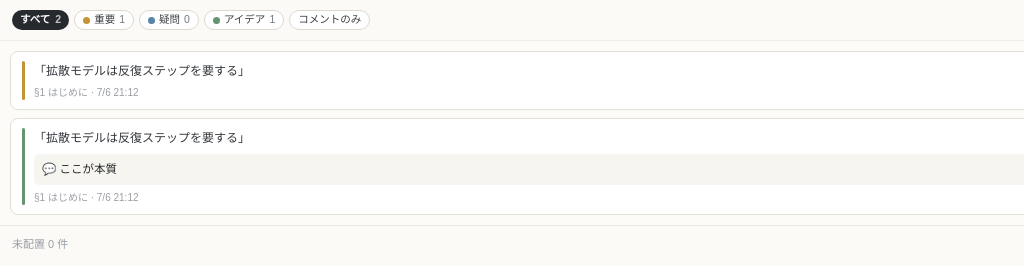
it: AnnotationListPanel (VT-VIEW-08) › コメントのみ filter shows only annotations with a comment
Click the button "コメントのみ" at (330, 20), box top-left (289, 10), bottom-right (370, 30)
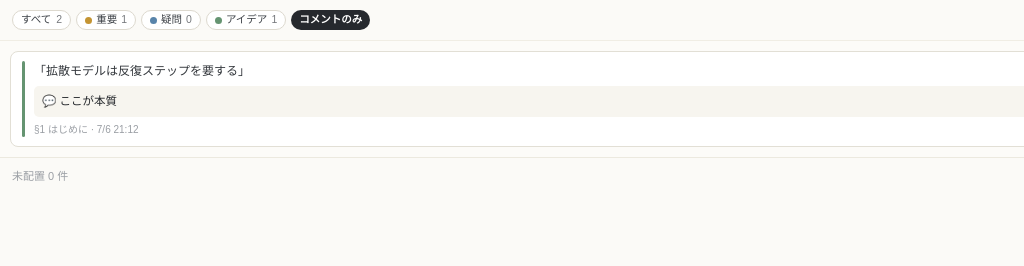
Now the text "「拡散モデルは反復ステップを要する」" is shown once, box top-left (34, 64), bottom-right (250, 78)
